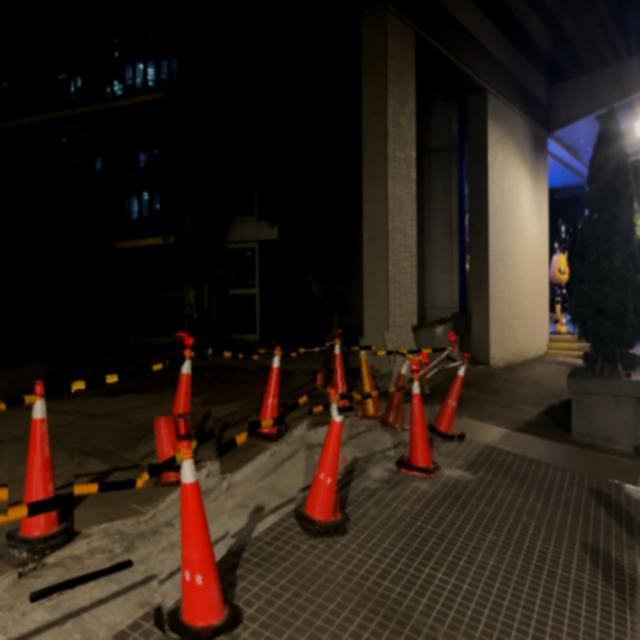traffic cone: (164, 341, 243, 640), (165, 436, 243, 640), (5, 380, 80, 554), (294, 410, 349, 538), (395, 357, 441, 479), (251, 346, 288, 442), (428, 358, 469, 443), (325, 336, 355, 414), (151, 415, 182, 488), (356, 345, 382, 420)
